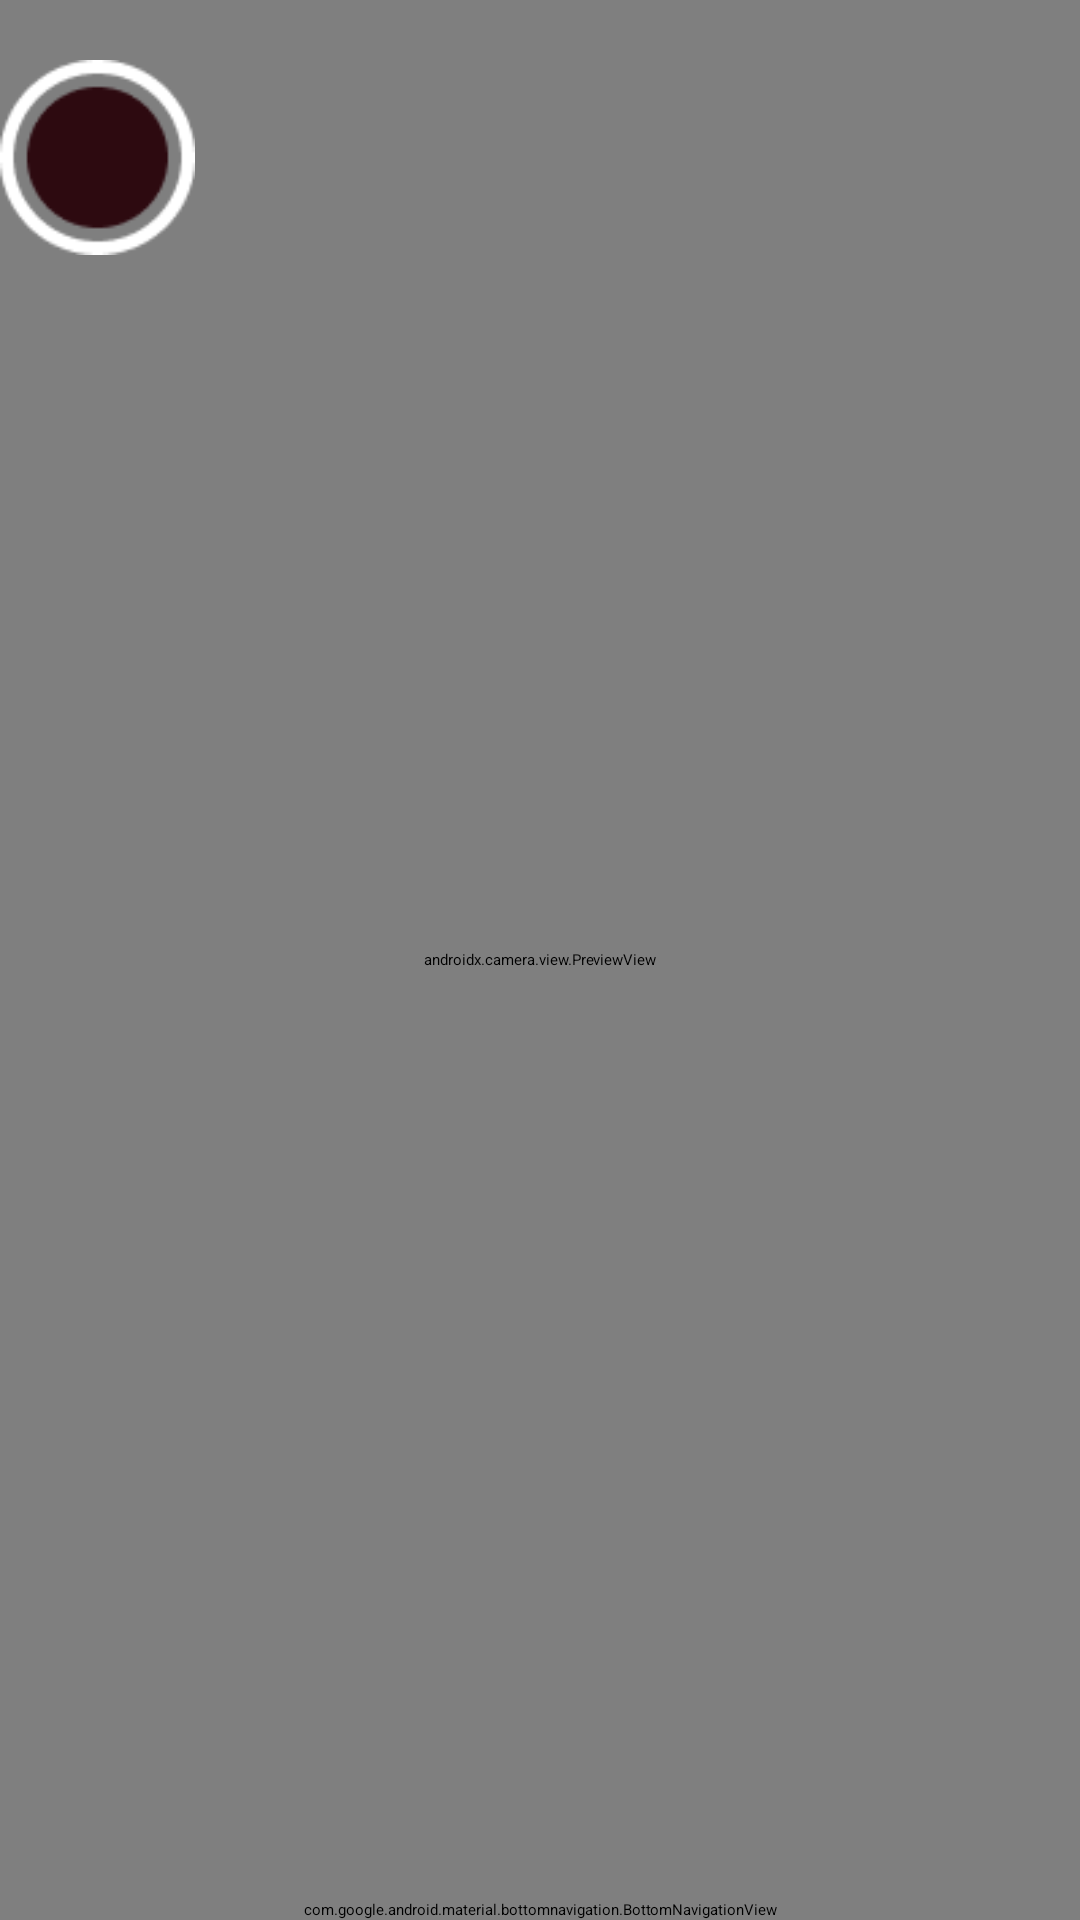

Locate icon controls on the screen. Image size 1080 x 1920, boxes as (x1, y1, x2, y2).
shot camera: (0, 60, 195, 255)
